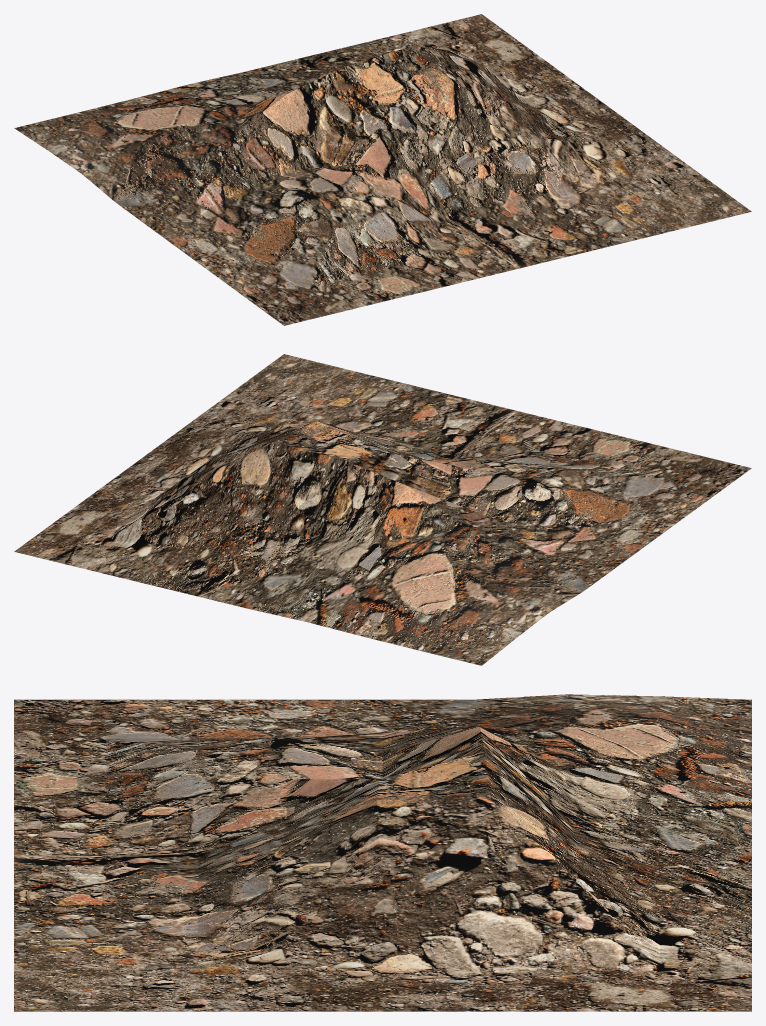
File: rubble.fbx
3 renders of one model, top to bottom at view 1: azimuth 30°, elevation 25°; view 2: azimuth 150°, elevation 25°; view 3: azimuth 270°, elevation 25°, orthographic. The views are drawn at different scales.
Visible parts, largest first — view 1: Plane; view 2: Plane; view 3: Plane.
Part boxes in pixels (x1,y1,x2,y2): Plane: [14, 14, 751, 325]; Plane: [14, 354, 751, 665]; Plane: [14, 694, 751, 1011].
Size of the model in its own units: 2 by 2 by 0.322.
1 material, 1 textured.
